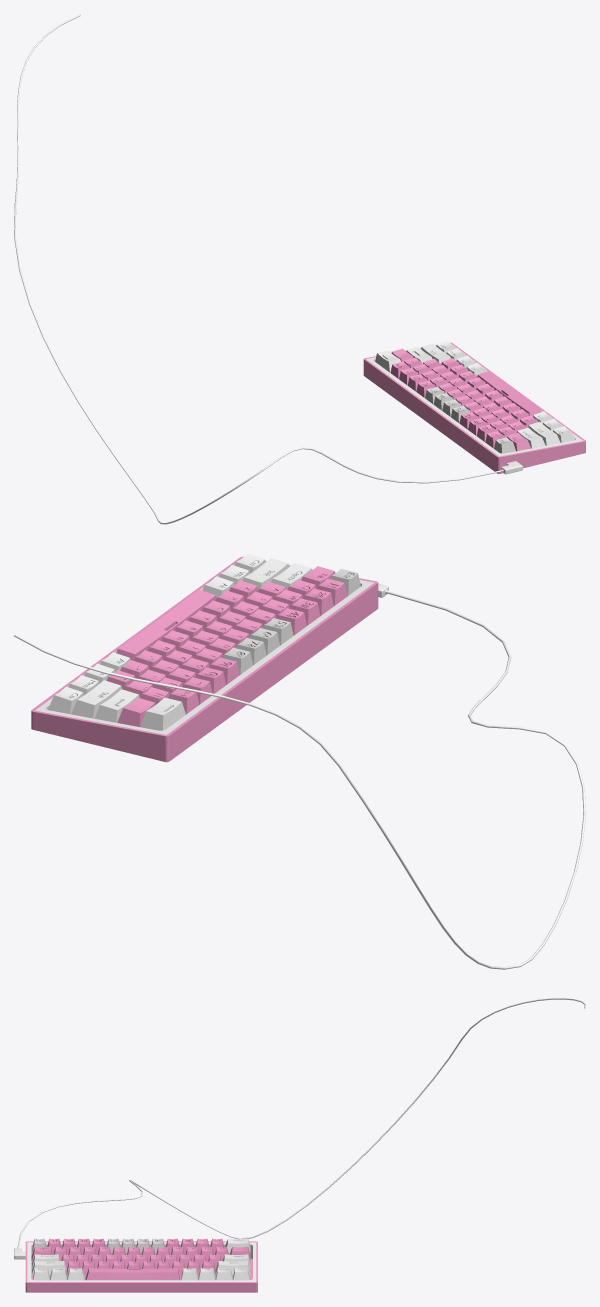
File: keyboard_redragon_fizz_k617.glb
3 renders of one model, top to bottom at view 1: azimuth 30°, elevation 25°; view 2: azimuth 150°, elevation 25°; view 3: azimuth 270°, elevation 25°, orthographic. The views are drawn at different scales.
Parts seen in each view (by area): view 1: object 1, Cube.001_17, BezierCurve.001_4, Cube.012_7, Cube.014_12, Cube.013_10, Cube.011_16; view 2: object 1, Cube.001_17, BezierCurve.001_4, Cube.012_7, Cube.014_12, Cube.013_10, Cube.011_16, Cube.006_14, Cube.010_15, Cube.002_18, Cube.005_13, Cube.004_8 (+3 smaller); view 3: object 1, Cube.001_17, Cube.012_7, BezierCurve.001_4, Cube.013_10, Cube.011_16, Cube.014_12, Cube.006_14, Cube.010_15.
Boxes of the visible parts, <box> form: object 1: <box>363,342,585,473</box>; Cube.001_17: <box>390,361,515,453</box>; BezierCurve.001_4: <box>14,14,501,524</box>; Cube.012_7: <box>404,357,516,437</box>; Cube.014_12: <box>441,358,537,427</box>; Cube.013_10: <box>423,358,526,432</box>; Cube.011_16: <box>477,371,541,416</box>; object 1: <box>31,556,378,762</box>; Cube.001_17: <box>168,568,360,714</box>; BezierCurve.001_4: <box>14,591,585,969</box>; Cube.012_7: <box>140,579,316,704</box>; Cube.014_12: <box>106,580,257,689</box>; Cube.013_10: <box>124,581,285,698</box>; Cube.011_16: <box>116,589,216,660</box>; Cube.006_14: <box>47,652,130,714</box>; Cube.010_15: <box>202,553,265,597</box>; Cube.002_18: <box>140,697,185,730</box>; Cube.005_13: <box>71,680,121,718</box>; Cube.004_8: <box>94,689,139,722</box>; object 1: <box>25,1241,257,1292</box>; Cube.001_17: <box>32,1238,224,1253</box>; Cube.012_7: <box>53,1247,228,1261</box>; BezierCurve.001_4: <box>17,998,585,1248</box>; Cube.013_10: <box>61,1254,221,1268</box>; Cube.011_16: <box>85,1268,180,1280</box>; Cube.014_12: <box>66,1261,215,1275</box>; Cube.006_14: <box>181,1268,250,1280</box>; Cube.010_15: <box>33,1268,84,1280</box>.
Bounding box in the file's own units: 0.7725 × 0.7376 × 1.35.
